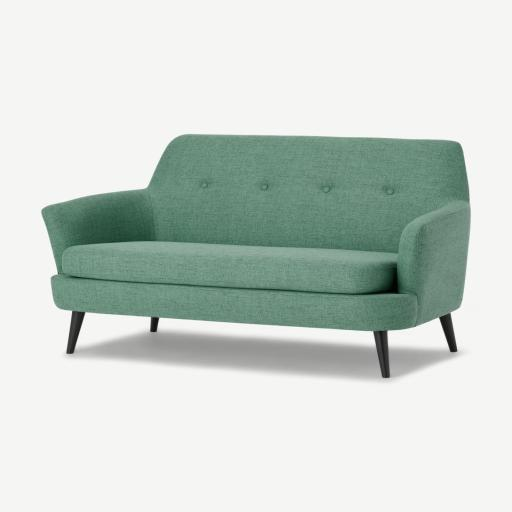back_cushion: (148, 135, 469, 252)
base: (51, 274, 416, 331)
left_arm: (397, 202, 470, 324)
legs: (66, 311, 84, 354), (374, 331, 389, 377), (441, 314, 456, 351), (150, 317, 159, 332)
one-seater: (42, 135, 470, 377)
right_arm: (42, 189, 154, 274)
seat_cushion: (62, 241, 397, 298)
